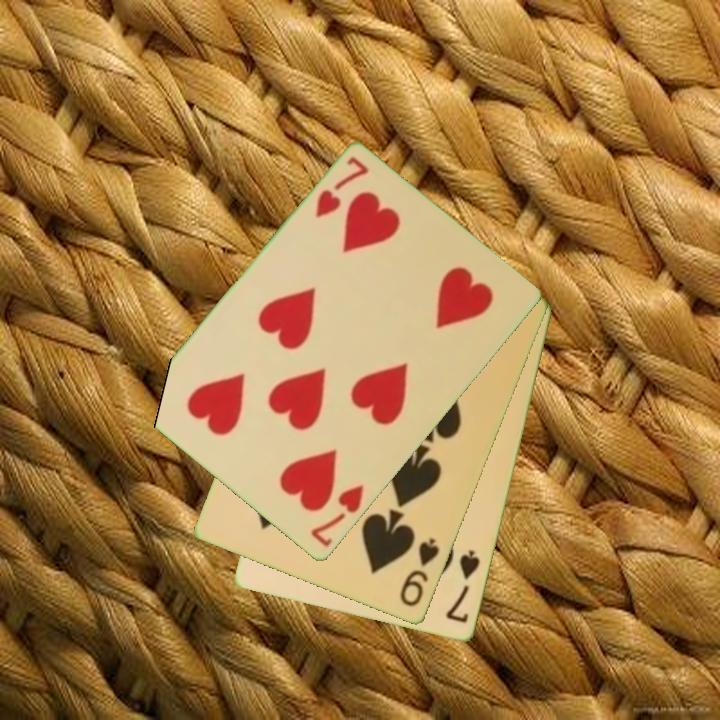7h: (307, 482, 367, 551), (312, 154, 372, 222)
7s: (442, 547, 484, 627)
9s: (396, 535, 443, 610)
